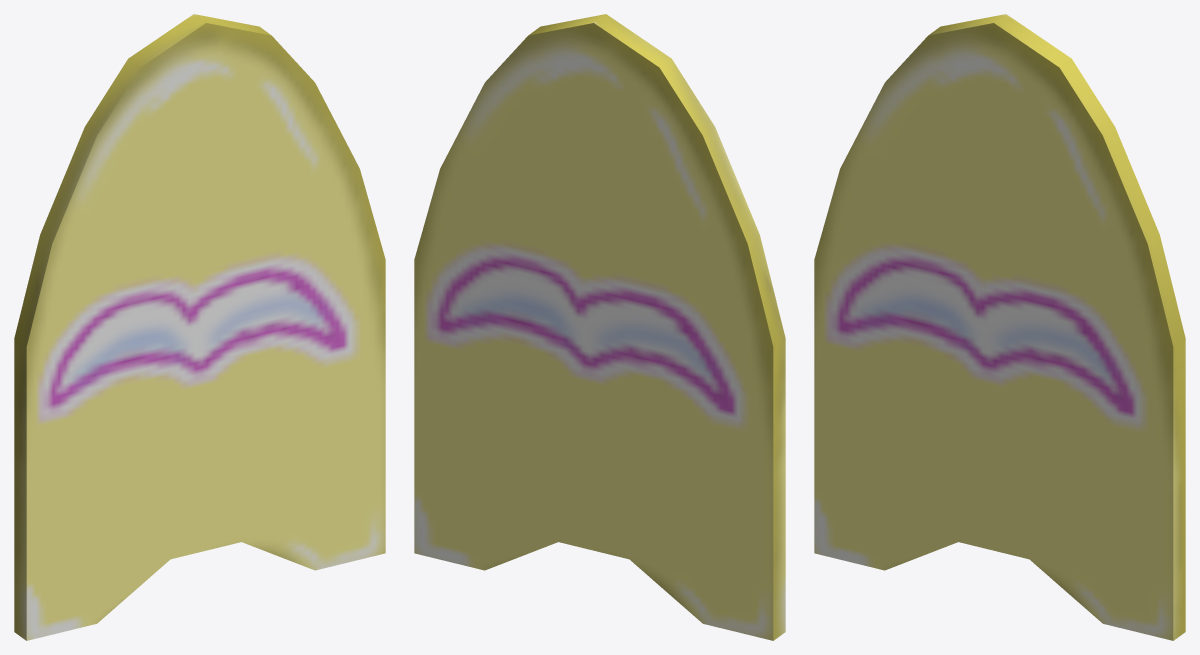
The model's file is giftgoods001.fbx.
The picture shows the model from 3 angles, left to right: view 1: azimuth 30°, elevation 25°; view 2: azimuth 150°, elevation 25°; view 3: azimuth 330°, elevation 25°; orthographic projection.
Visible parts, largest first — view 1: giftgoods001; view 2: giftgoods001; view 3: giftgoods001.
Part boxes in pixels (left/top/right/bottom): giftgoods001: left=14, top=14, right=385, bottom=640; giftgoods001: left=414, top=14, right=785, bottom=640; giftgoods001: left=814, top=14, right=1185, bottom=640.
Size of the model in its own units: 0.4558 by 0.6965 by 0.0269.
